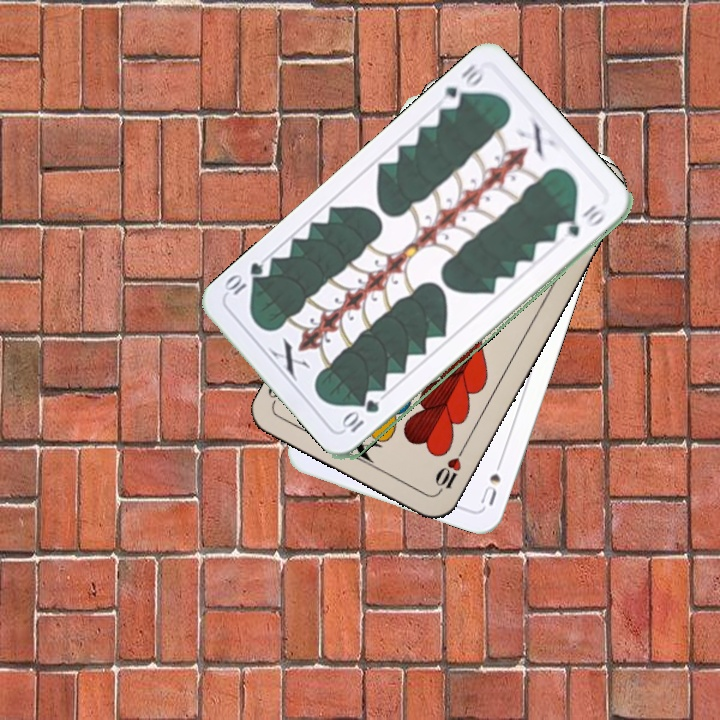G10: (435, 60, 486, 113), (340, 397, 382, 435)
H10: (431, 442, 468, 497)
SU: (476, 452, 506, 508)
